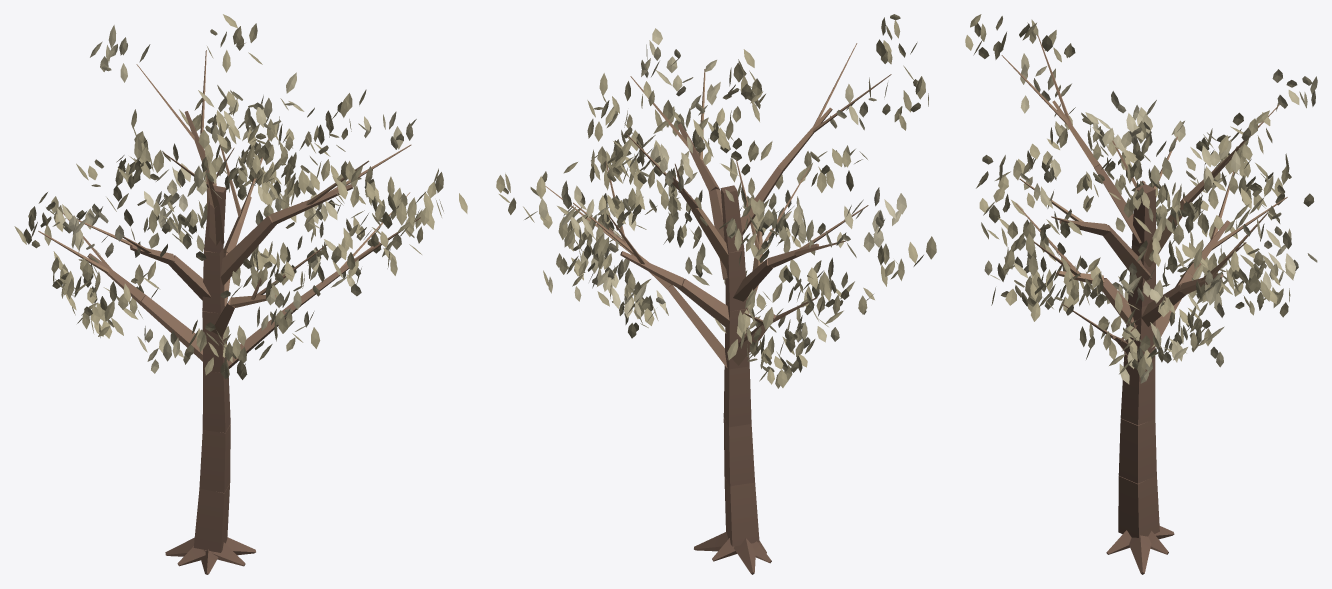
File: tree_3d_05_golden_beige.glb
The picture shows the model from 3 angles, left to right: view 1: azimuth 30°, elevation 25°; view 2: azimuth 150°, elevation 25°; view 3: azimuth 270°, elevation 25°; orthographic projection.
Visible parts, largest first — view 1: tree_3d_05_golden_beige_foliage, tree_3d_05_golden_beige_wood; view 2: tree_3d_05_golden_beige_foliage, tree_3d_05_golden_beige_wood; view 3: tree_3d_05_golden_beige_foliage, tree_3d_05_golden_beige_wood.
Boxes of the visible parts, x1,y1,x2,y2 form: tree_3d_05_golden_beige_foliage: (14,14,467,379); tree_3d_05_golden_beige_wood: (38,50,420,574); tree_3d_05_golden_beige_foliage: (496,14,936,388); tree_3d_05_golden_beige_wood: (545,43,891,574); tree_3d_05_golden_beige_foliage: (965,14,1317,384); tree_3d_05_golden_beige_wood: (1001,35,1287,574).
Bounding box in the file's own units: 12.5 × 14.5 × 9.2.
